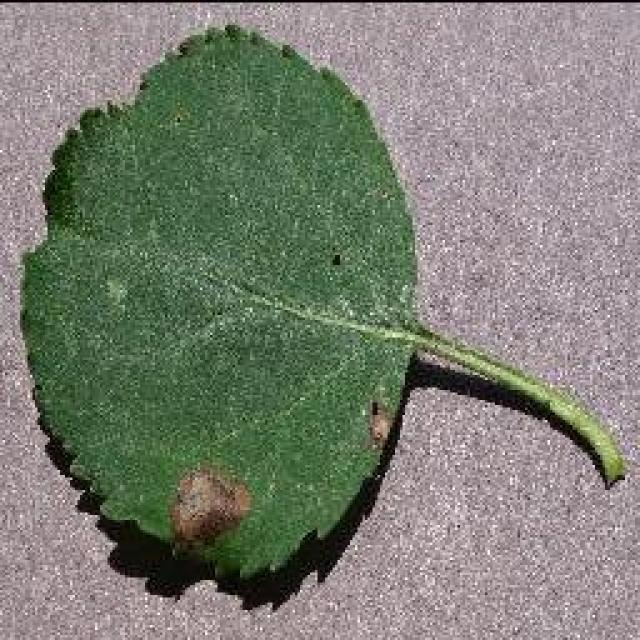Black_rot: (15, 20, 627, 588)
